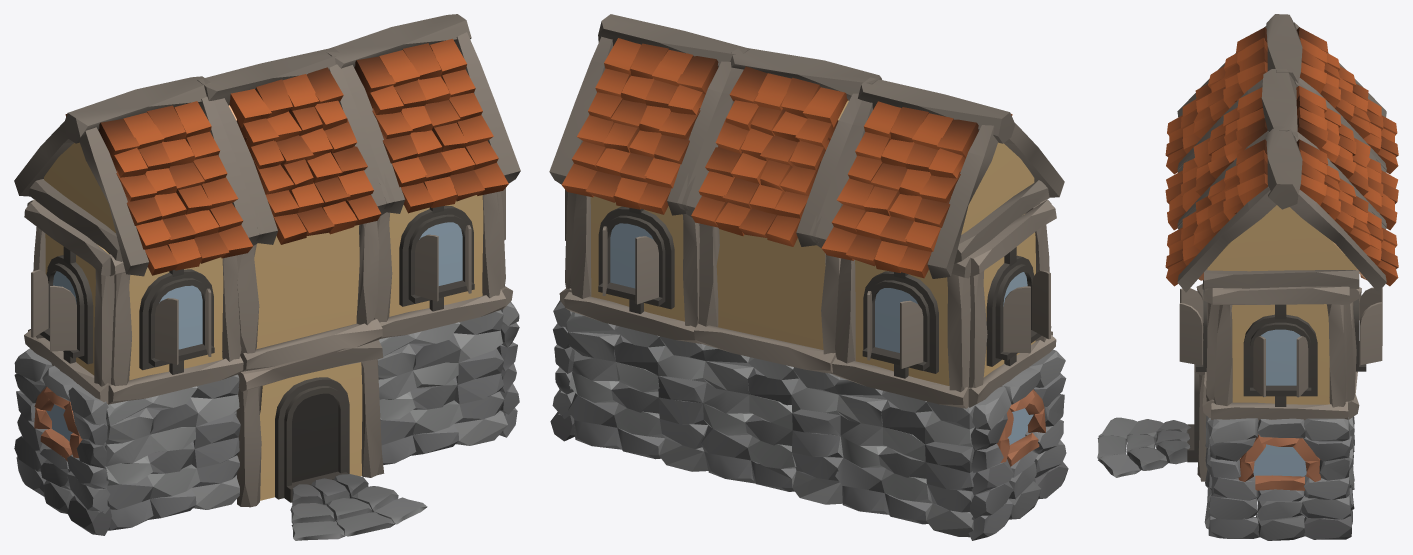
File: mini_building1.fbx
3 renders of one model, left to right at view 1: azimuth 30°, elevation 25°; view 2: azimuth 150°, elevation 25°; view 3: azimuth 270°, elevation 25°, orthographic. The views are drawn at different scales.
Parts seen in each view (by area): view 1: mini_building1; view 2: mini_building1; view 3: mini_building1.
Part boxes in pixels (bbox=[...]): mini_building1: bbox=[14, 14, 520, 540]; mini_building1: bbox=[549, 14, 1068, 540]; mini_building1: bbox=[1097, 14, 1398, 540].
Bounding box in the file's own units: 16.93 × 13.9 × 10.77.
